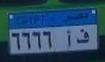6: (31, 30, 41, 51), (21, 30, 31, 50), (11, 32, 21, 51), (43, 31, 52, 50)
alif: (66, 28, 73, 49)
faa: (75, 29, 90, 45)
